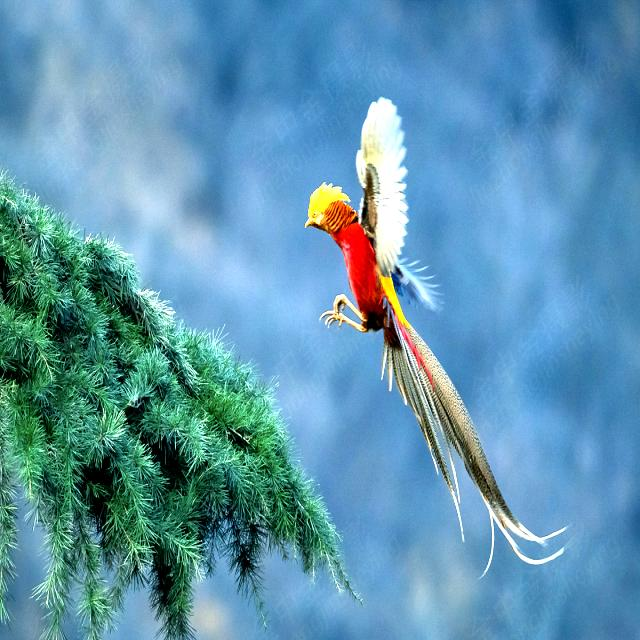Chrysolophus pictus feather: (383, 303, 566, 564)
